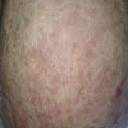Actinic: (1, 2, 28, 75), (15, 93, 54, 128), (77, 103, 118, 127), (109, 78, 128, 101)
